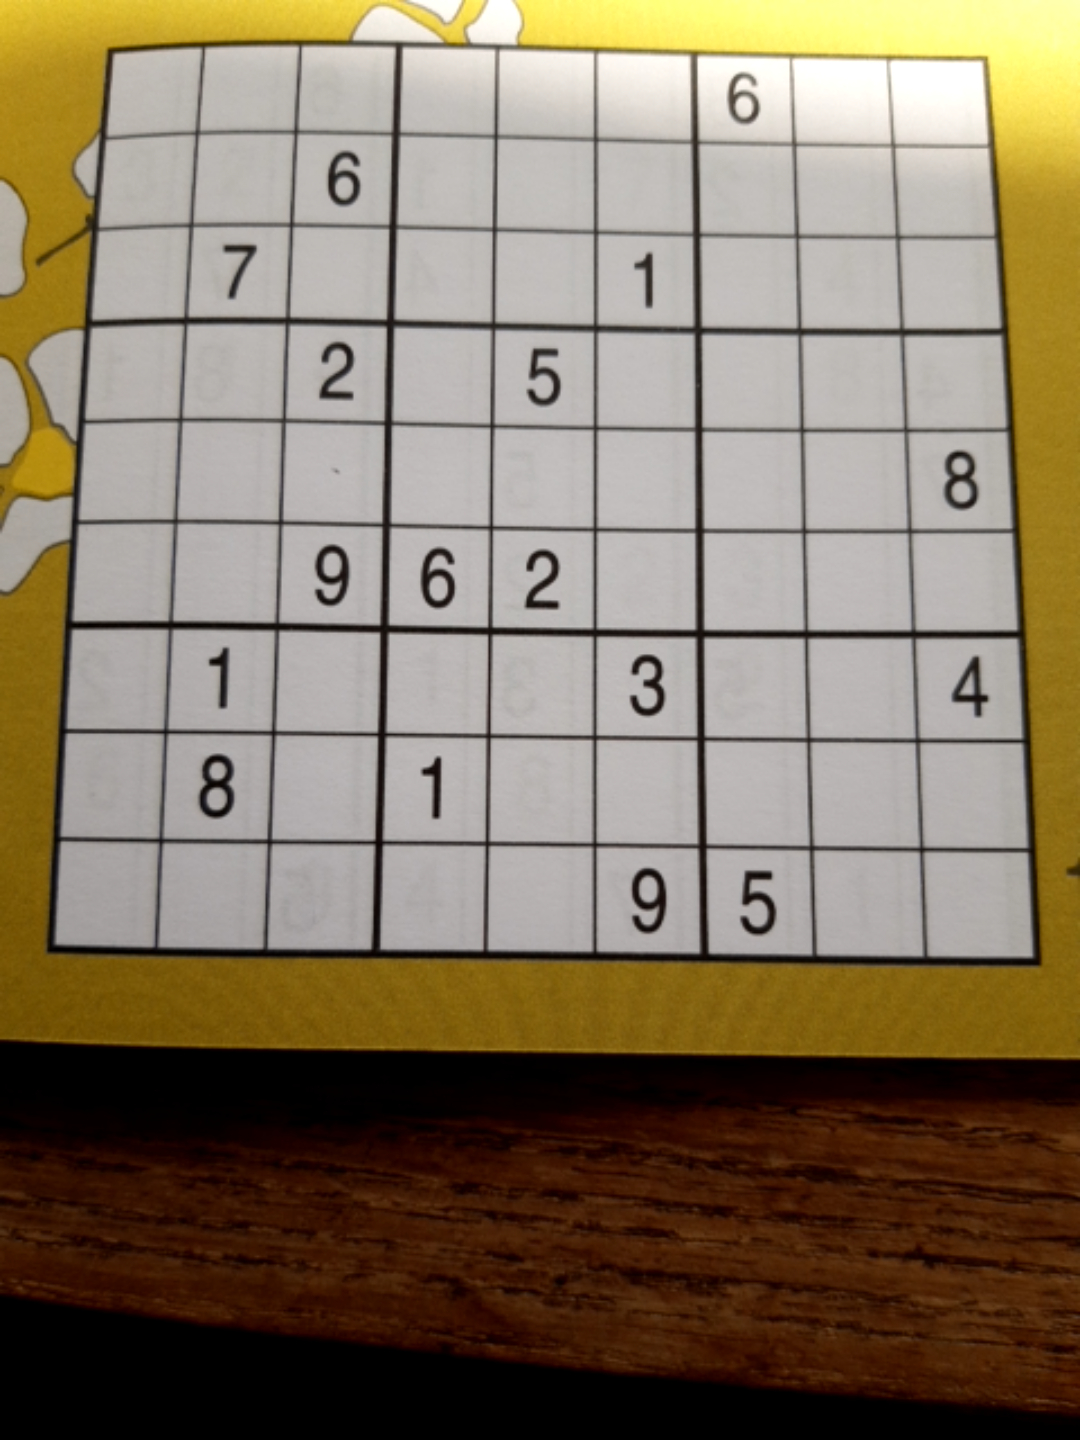sudoku: (40, 37, 1037, 969)
